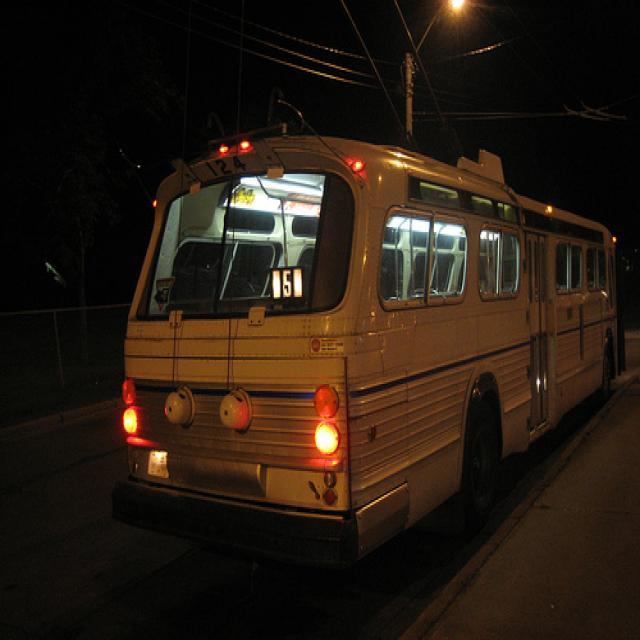Bus: (117, 128, 630, 548)
